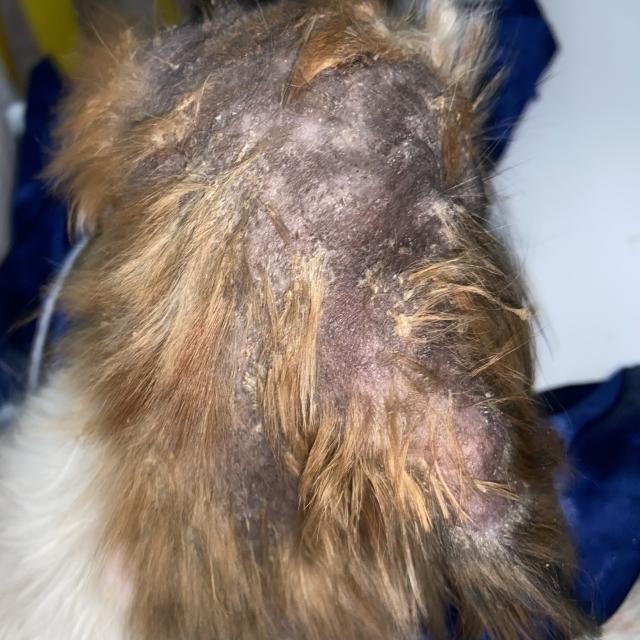demodicosis: (140, 22, 439, 249), (335, 286, 532, 534), (183, 373, 302, 543)
